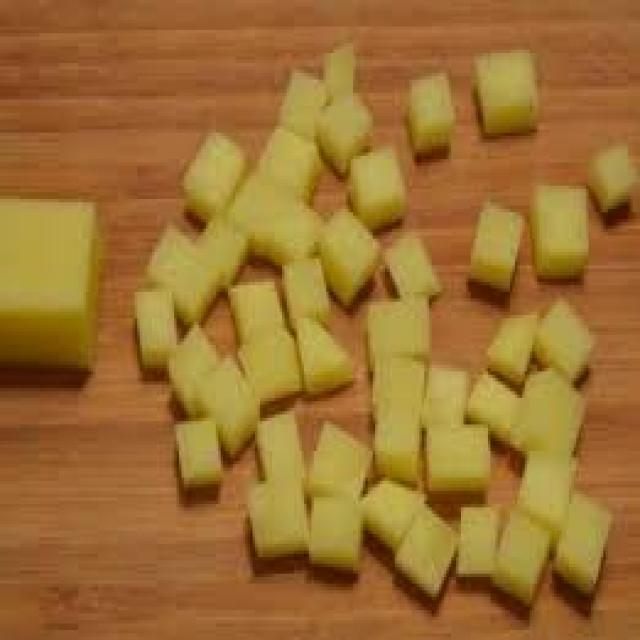Potato: (140, 30, 634, 616), (0, 163, 105, 402)
